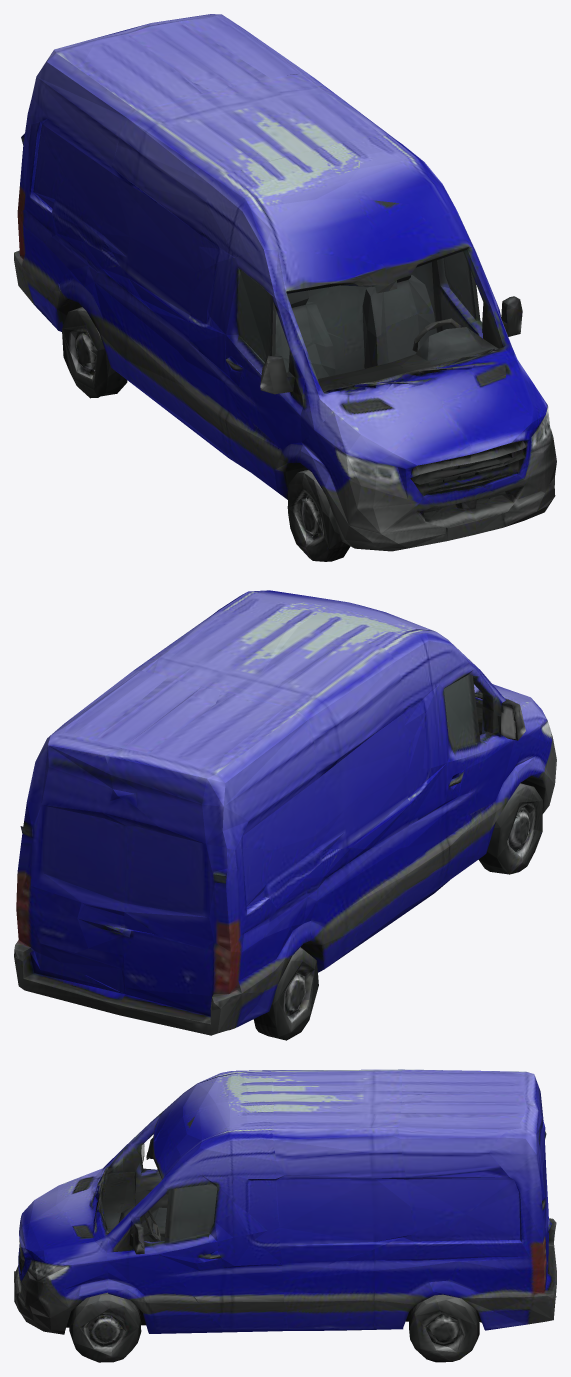
Rendered from transporter.glb.
The picture shows the model from 3 angles, top to bottom: view 1: azimuth 30°, elevation 25°; view 2: azimuth 150°, elevation 25°; view 3: azimuth 270°, elevation 25°; orthographic projection. The views are drawn at different scales.
Visible parts, largest first — view 1: koerper; view 2: koerper; view 3: koerper.
Boxes of the visible parts, <box> form: koerper: <box>14,14,556,561</box>; koerper: <box>14,590,556,1040</box>; koerper: <box>14,1069,556,1362</box>.
Size of the model in its own units: 2.36 by 2.58 by 5.6.
1 material, 1 textured.
